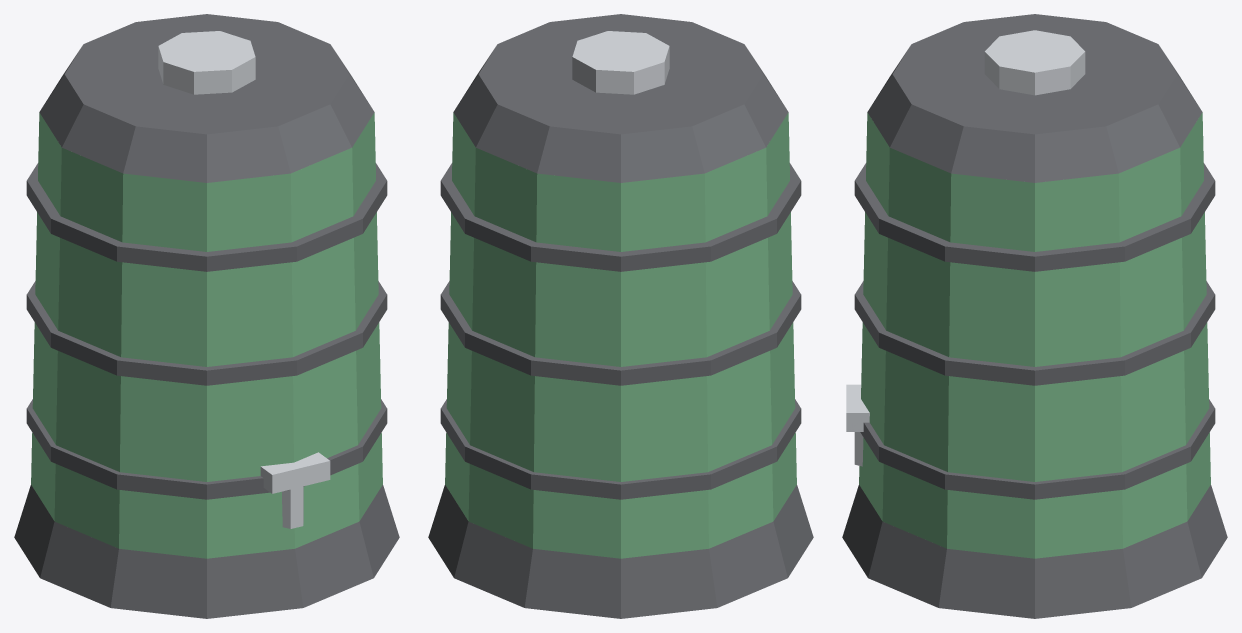
File: street-food-market-and-food-trucks-water-butt-1eaadb63__34311.glb
The picture shows the model from 3 angles, left to right: view 1: azimuth 30°, elevation 25°; view 2: azimuth 150°, elevation 25°; view 3: azimuth 270°, elevation 25°; orthographic projection.
Visible parts, largest first — view 1: water-butt-leaf, water-butt-charcoal, water-butt-steel; view 2: water-butt-leaf, water-butt-charcoal, water-butt-steel; view 3: water-butt-leaf, water-butt-charcoal, water-butt-steel.
Boxes of the visible parts, x1,y1,x2,y2 form: water-butt-leaf: (31,112,382,558); water-butt-charcoal: (14,14,399,618); water-butt-steel: (158,31,330,528); water-butt-leaf: (445,112,796,558); water-butt-charcoal: (428,14,813,618); water-butt-steel: (572,31,669,94); water-butt-leaf: (859,112,1210,558); water-butt-charcoal: (842,14,1227,618); water-butt-steel: (846,30,1085,466).
Size of the model in its own units: 0.9201 by 1.28 by 0.9201.
